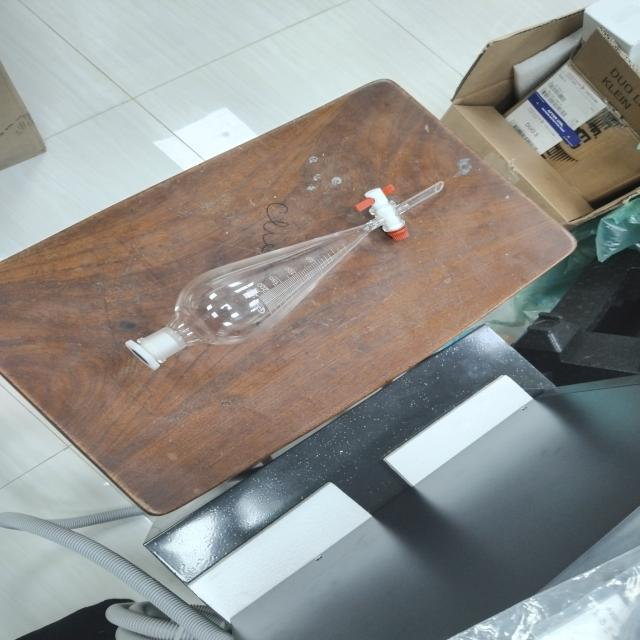Separating_Funnel: (109, 125, 482, 392)
